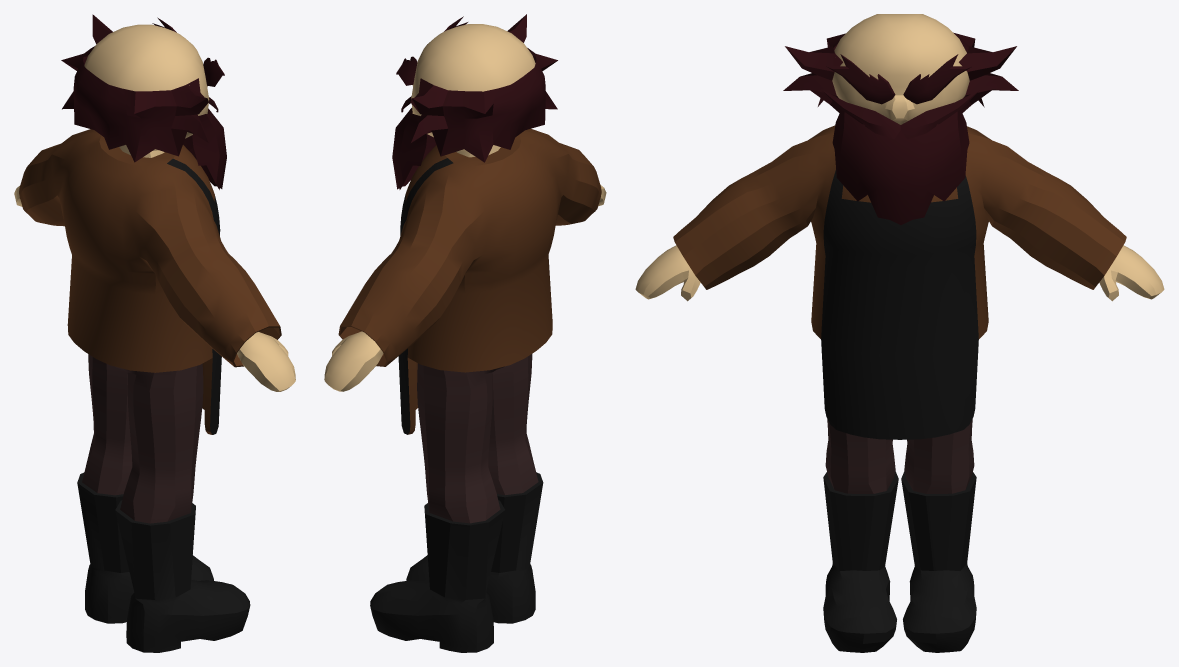
Rendered from MasterWeaponsmith.fbx.
3 views of the same model, side by side, from view 1: azimuth 30°, elevation 25°; view 2: azimuth 150°, elevation 25°; view 3: azimuth 270°, elevation 25° (orthographic).
Parts seen in each view (by area): view 1: arms.001, beard.004, eyebrows.004; view 2: arms.001, beard.004, eyebrows.004; view 3: arms.001, beard.004, eyebrows.004, mustache.007.
Boxes of the visible parts, box(x1,y1,x2,y2) form: arms.001: box(14, 24, 295, 652); beard.004: box(61, 14, 226, 189); eyebrows.004: box(152, 17, 224, 86); arms.001: box(324, 24, 606, 652); beard.004: box(392, 14, 557, 189); eyebrows.004: box(396, 16, 467, 85); arms.001: box(635, 14, 1164, 652); beard.004: box(783, 32, 1018, 224); eyebrows.004: box(826, 54, 972, 104); mustache.007: box(822, 89, 980, 139).
Size of the model in its own units: 47.06 by 180 by 144.
